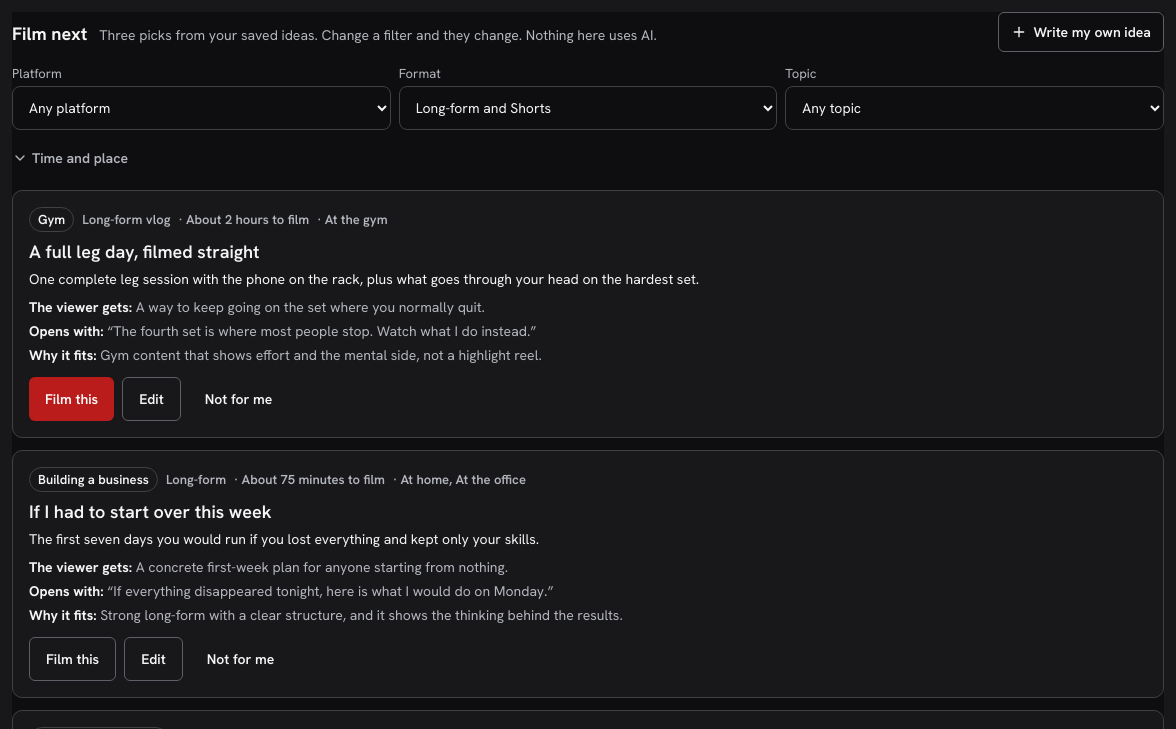
Scenario: Film next: choosing, editing, dismissing › cancelling an edit restores the original and chooses nothing
Click the button "Edit" below "About 2 hours to film".
click(152, 399)  # box [122, 377, 181, 421]
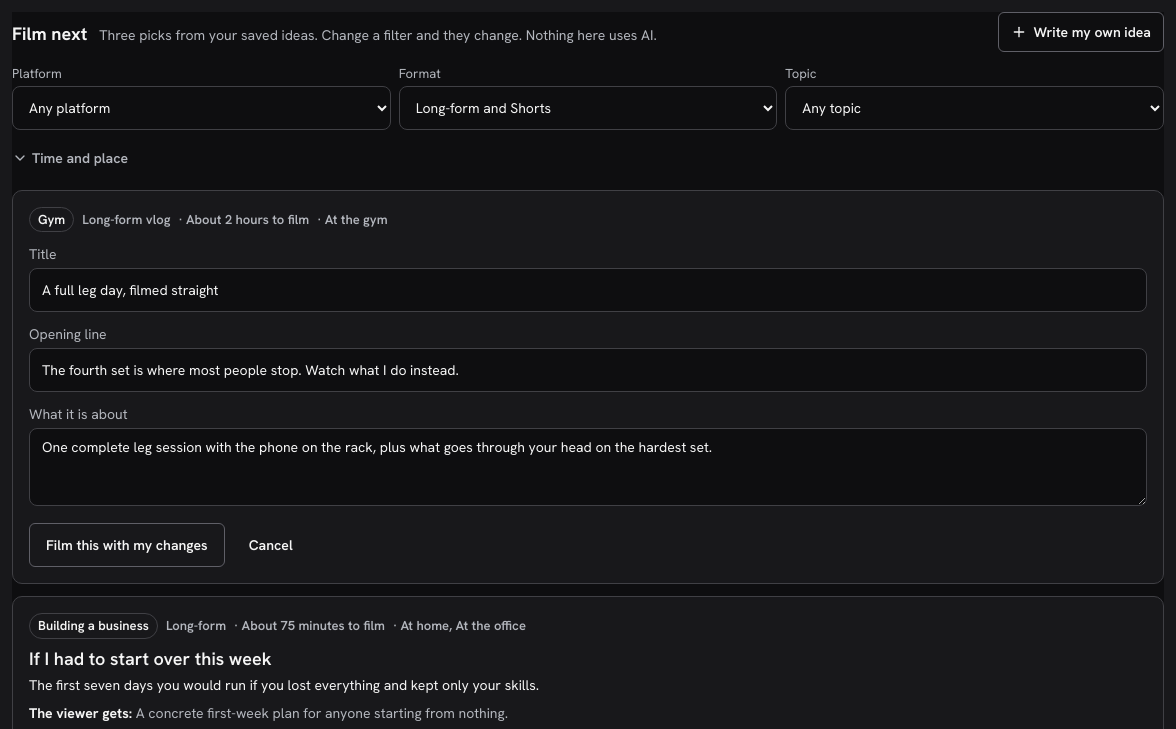
Replace the text in the field labelled "Title" with "Changed" at {"x": 588, "y": 290}, box [29, 268, 1147, 312]
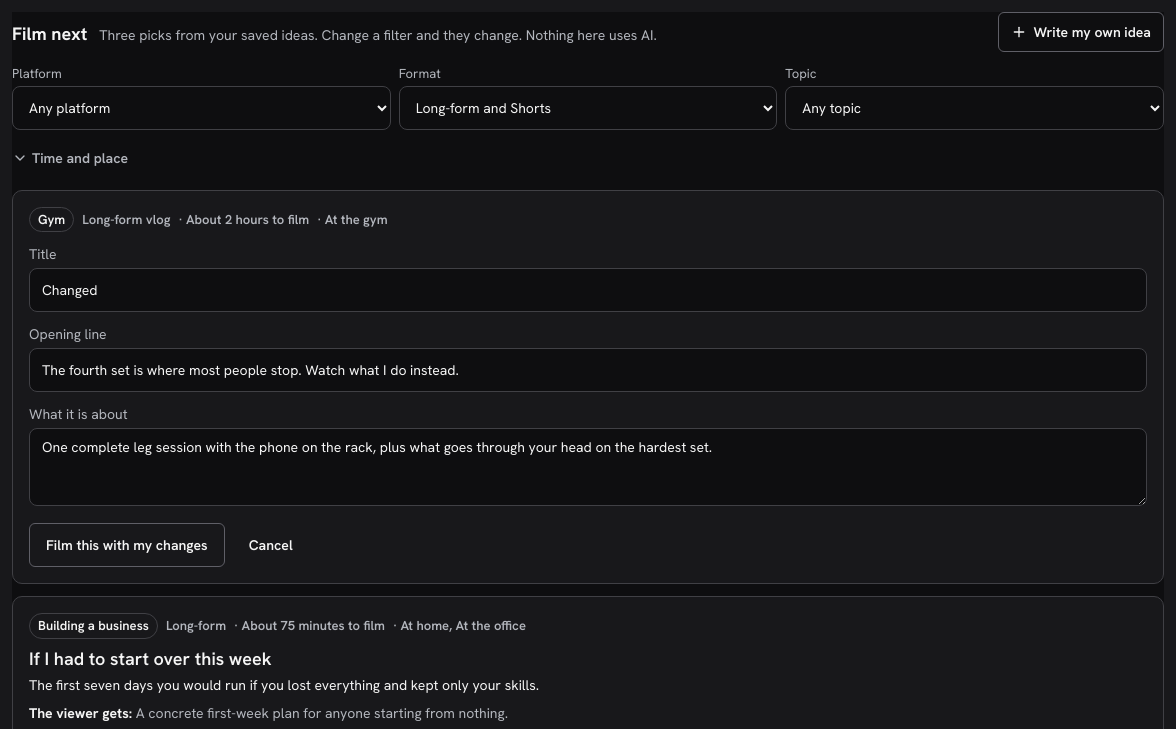
Click the button "Cancel".
click(271, 545)  # box [233, 523, 309, 567]
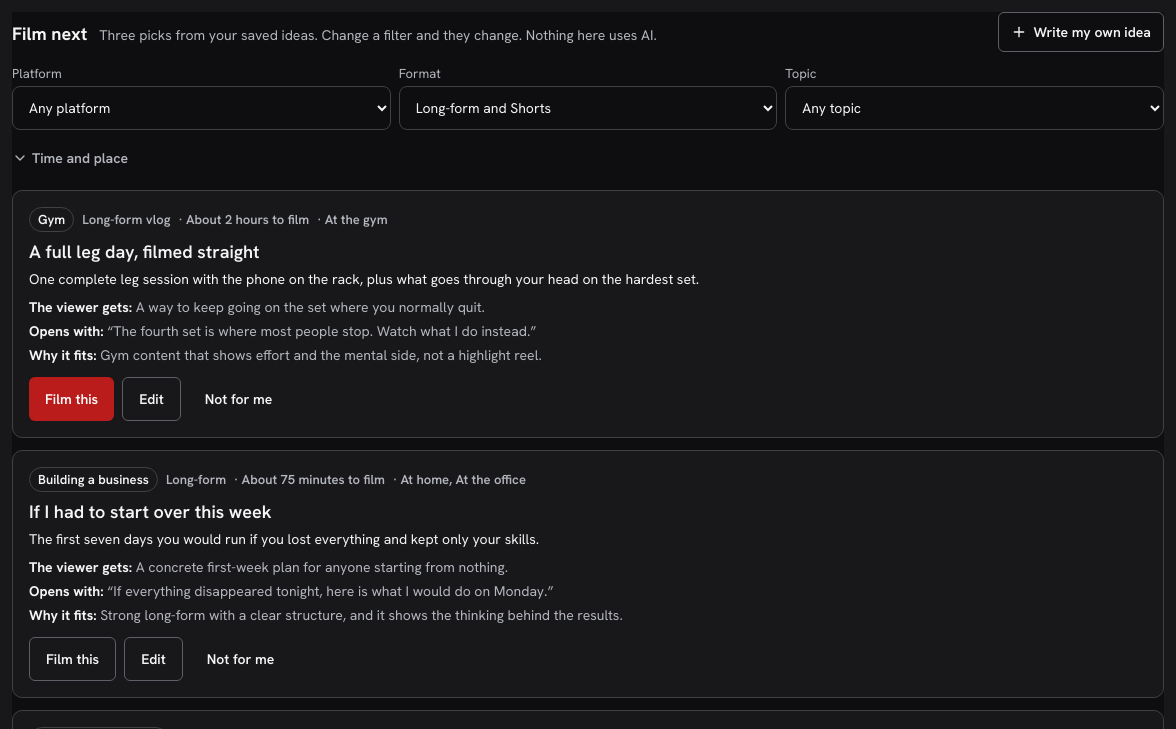
Check: the heading "A full leg day, filmed straight" is shown, box [29, 240, 260, 263]
